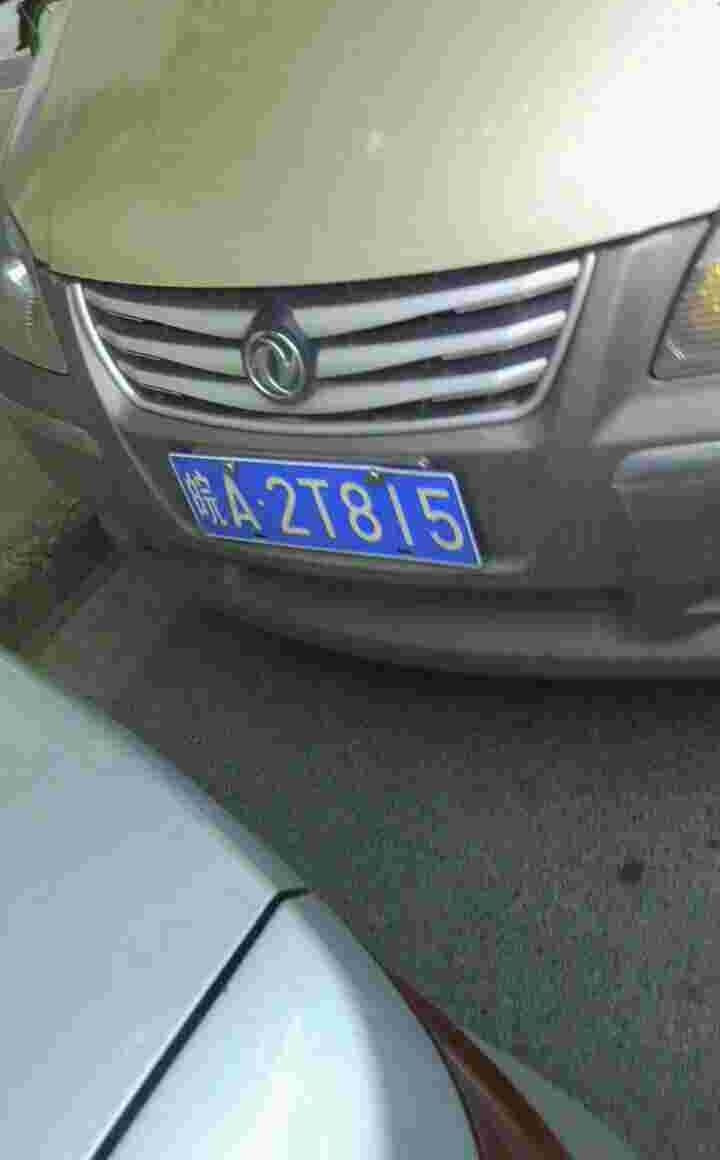car: (162, 451, 493, 555)
